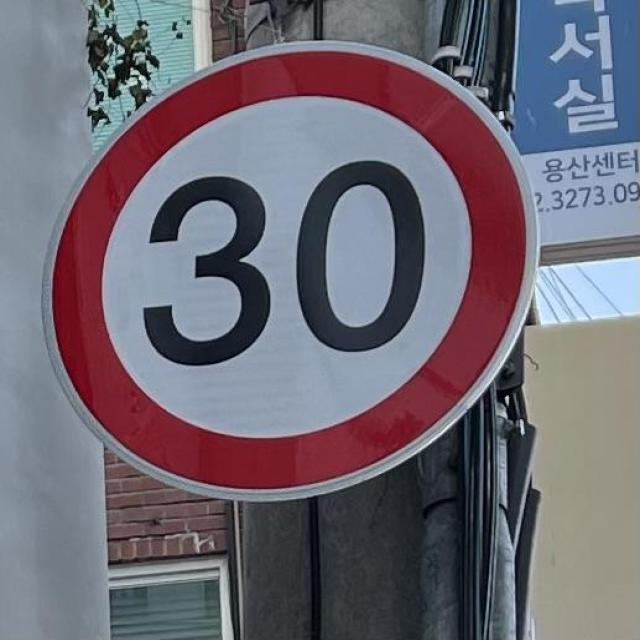speed_limit_30: (42, 36, 540, 507)
